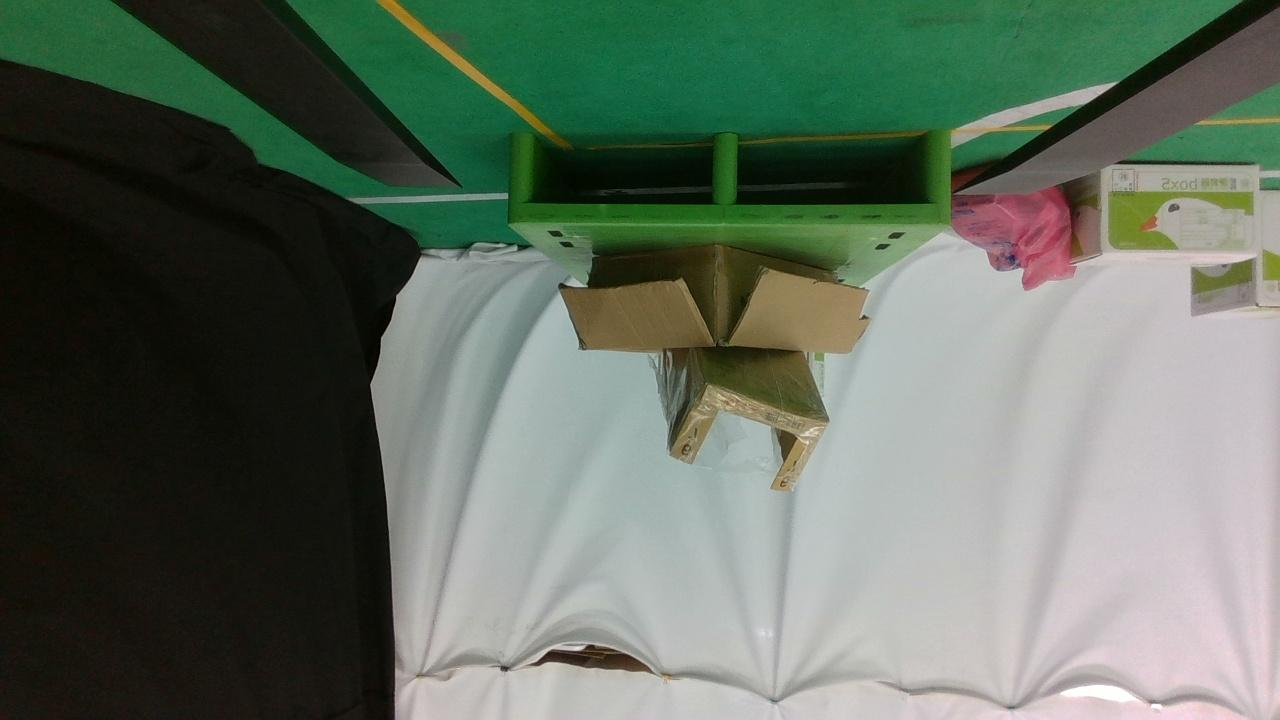Pallet: (508, 130, 952, 225)
